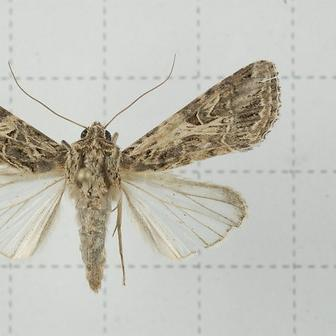Spodoptera litura: (1, 53, 282, 294)
